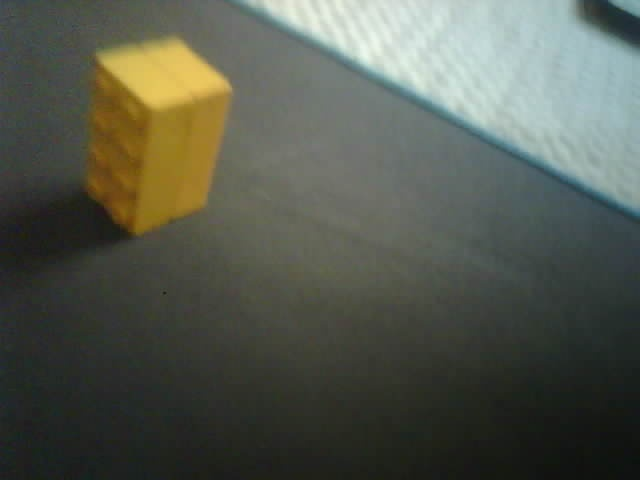lego: (81, 37, 234, 240)
